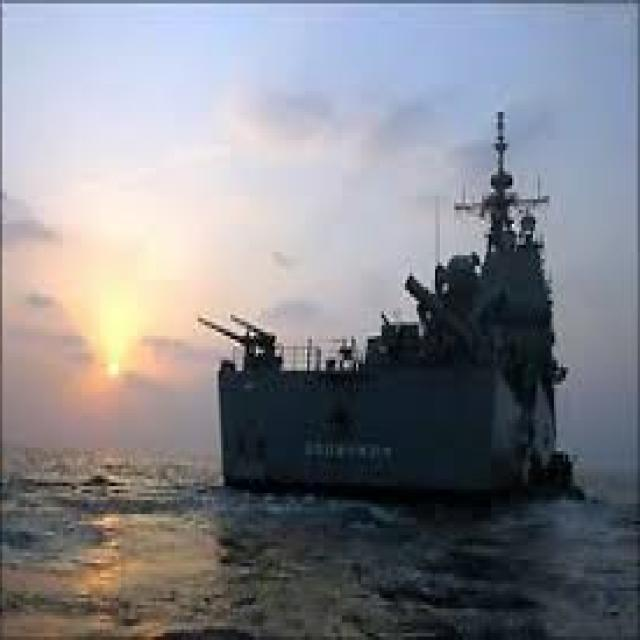navalvessels: (204, 106, 578, 508)
